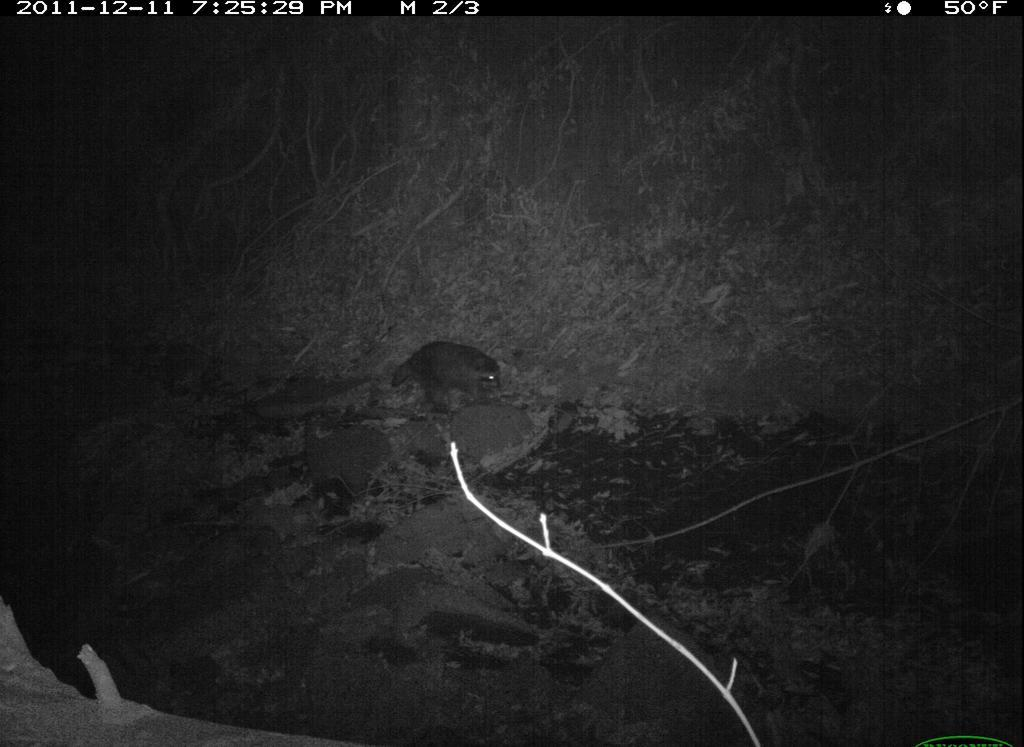raccoon: (385, 337, 507, 418)
